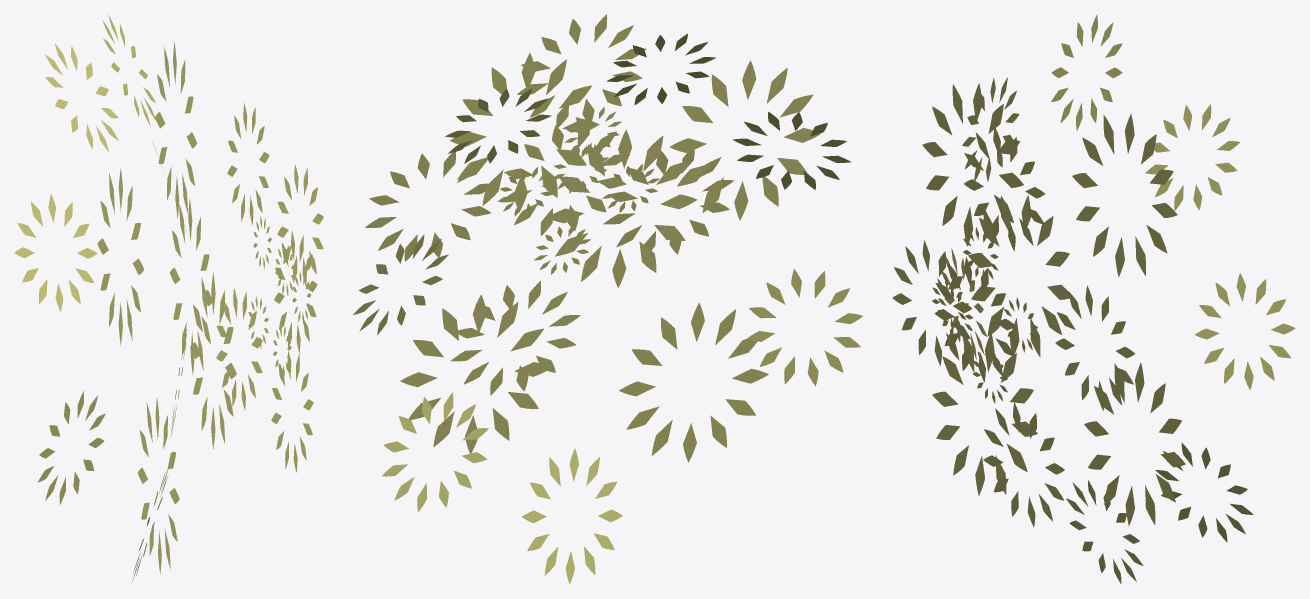
File: 30_openskp_material_35.obj
3 views of the same model, side by side, from view 1: azimuth 30°, elevation 25°; view 2: azimuth 150°, elevation 25°; view 3: azimuth 270°, elevation 25° (orthographic). The views are drawn at different scales.
Visible parts, largest first — view 1: 30_openskp_material_35; view 2: 30_openskp_material_35; view 3: 30_openskp_material_35.
Part boxes in pixels (x1=…): 30_openskp_material_35: x1=14, y1=14, x2=323, y2=581; 30_openskp_material_35: x1=353, y1=14, x2=862, y2=584; 30_openskp_material_35: x1=892, y1=15, x2=1295, y2=584.
Bounding box in the file's own units: 9.13 × 12.44 × 8.68.
